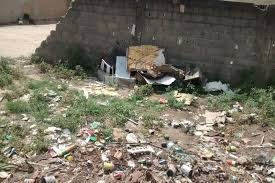rubble: (38, 125, 254, 181), (100, 52, 228, 96)
